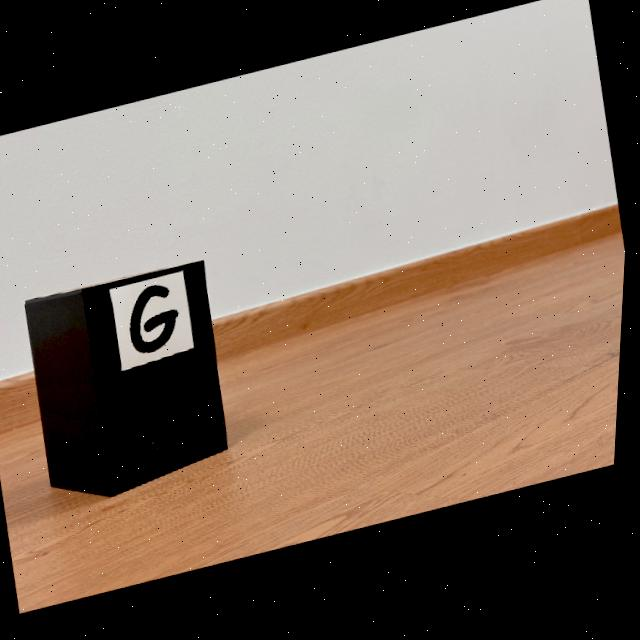G: (134, 287, 181, 355)
